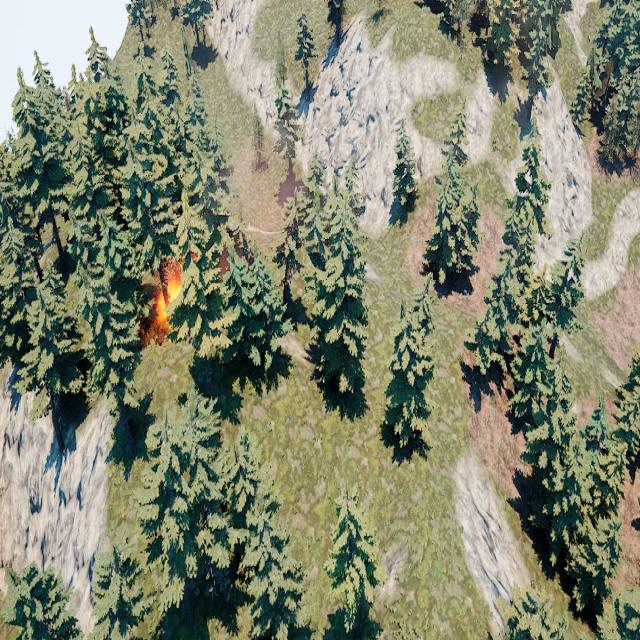fire: (156, 272, 183, 326)
